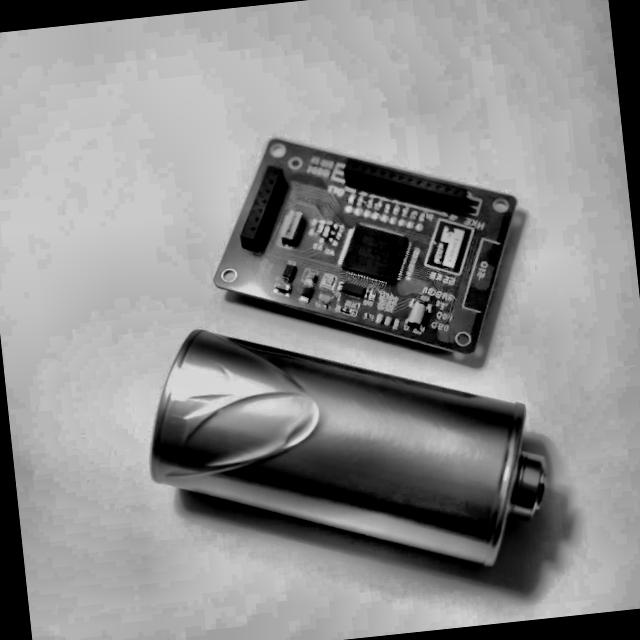Battery: (130, 290, 567, 617)
PCB: (200, 108, 540, 394)
